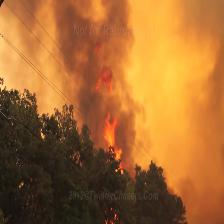fire: (83, 38, 137, 224)
smoke: (8, 0, 224, 126)
